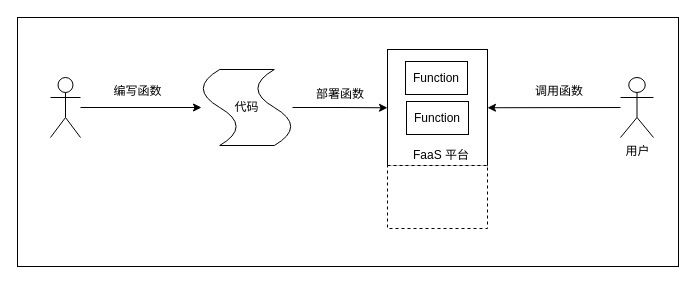
Image size: 696x284. Some labels were removed from this diagram. Each missing label, with the box of its shape:
复杂的 服务器细节: (386, 164, 488, 228)
开发者: (50, 76, 80, 138)
